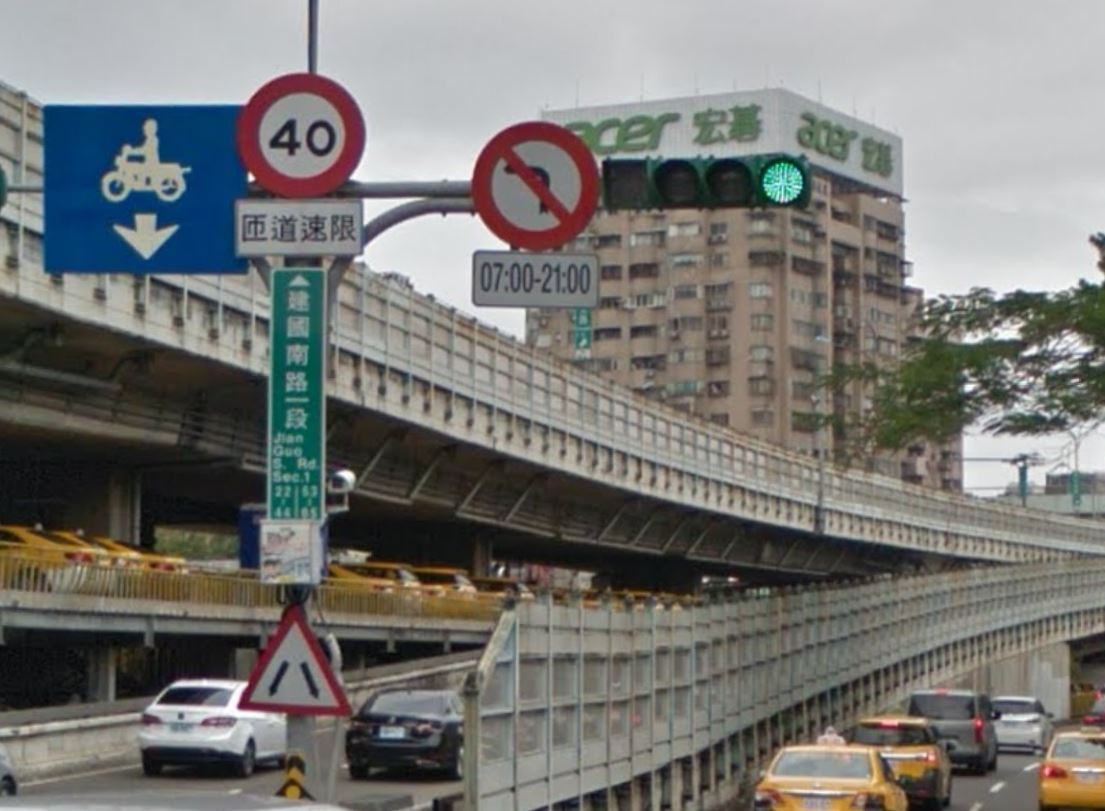No_left_turn: (469, 120, 600, 250)
Speed_limit_40km: (235, 72, 368, 196)
Traffic_light_green: (605, 155, 809, 209)
